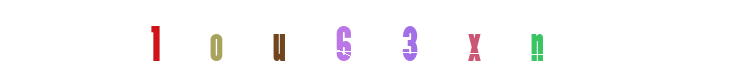1: (116, 0, 196, 80)
3: (336, 0, 416, 80)
6: (333, 0, 413, 80)
N: (497, 0, 577, 80)
O: (186, 0, 266, 80)
U: (239, 0, 319, 80)
X: (356, 0, 436, 80)
